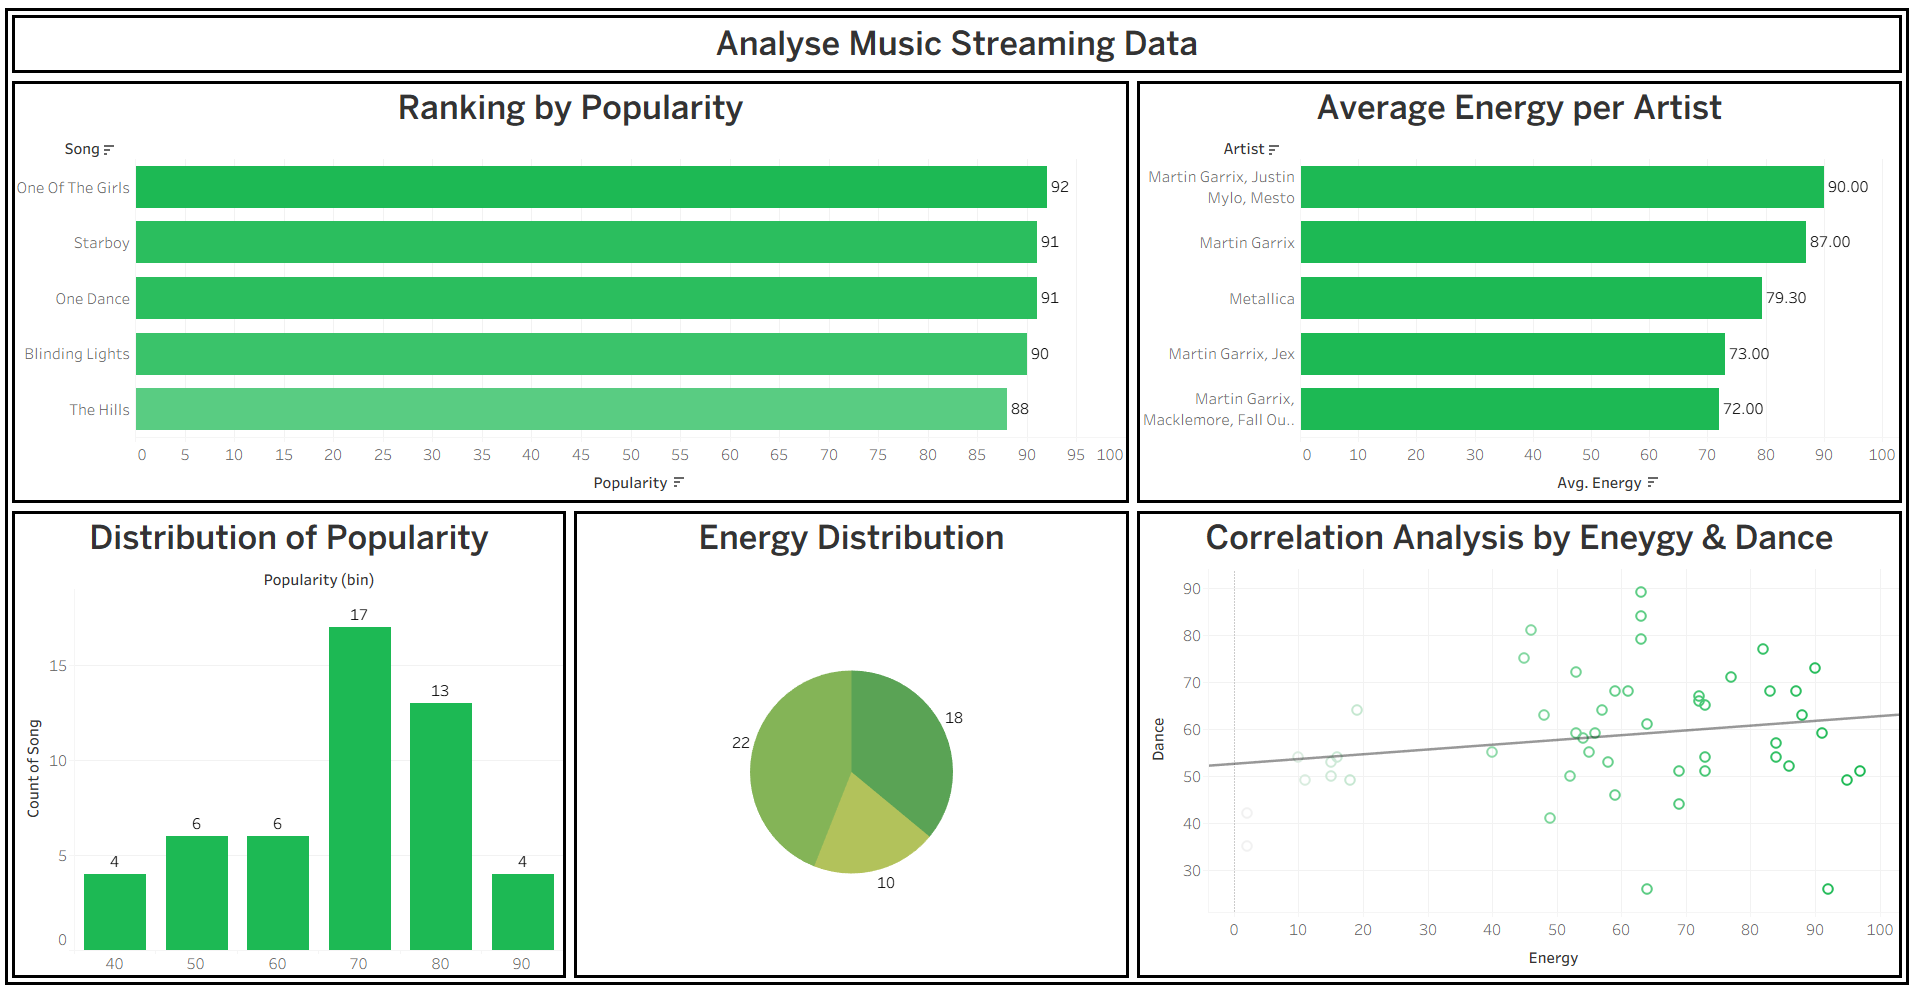

The dashboard page shown, as its layout file describes it:
{"tool":"tableau","page":{"name":"Dashboard 1","canvas":[1000,1000],"units":"permille","ordinal":0},"visuals":[{"type":"title","box":[6.6,12.8,986.7,76.7]},{"type":"worksheet","title":"Sheet 1","mark":"Automatic","rows":["Song"],"cols":["Popularity"],"box":[6.6,89.4,520.2,426.2]},{"type":"worksheet","title":"Sheet 4","mark":"Automatic","rows":["Artist"],"cols":["Energy"],"box":[526.9,89.4,466.5,426.3]},{"type":"worksheet","title":"Sheet 2","mark":"Automatic","rows":["Song"],"cols":["Popularity (bin)"],"box":[6.6,515.7,260.1,471.6]},{"type":"worksheet","title":"Sheet 3","mark":"Pie","box":[266.7,515.7,260.1,471.6]},{"type":"worksheet","title":"Sheet 5","mark":"Automatic","rows":["Dance"],"cols":["Energy"],"box":[526.9,515.7,466.5,471.6]}]}

Visuals, with their boxes on the dashboard's canvas, which has no fixed pixel size, in thousandths of its width and height (x1, y1, x2, y2). These are canvas units, not pixel positions in the 1916x993 screenshot, which may show the page scaled, cropped or inside an application window:
title: [7,13,993,90]
"Sheet 1" worksheet: [7,89,527,516]
"Sheet 4" worksheet: [527,89,993,516]
"Sheet 2" worksheet: [7,516,267,987]
"Sheet 3" worksheet (Pie marks): [267,516,527,987]
"Sheet 5" worksheet: [527,516,993,987]
